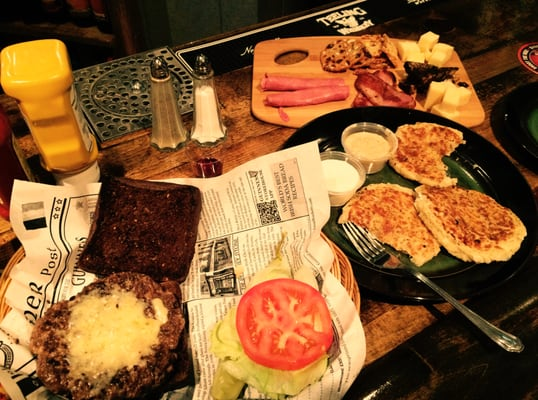burger: (341, 221, 527, 353)
pizza: (0, 39, 101, 178), (319, 157, 365, 207)
soup: (412, 184, 527, 265)
sushi: (341, 122, 397, 175)
